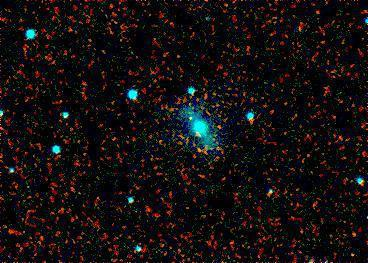star: (175, 104, 205, 134)
